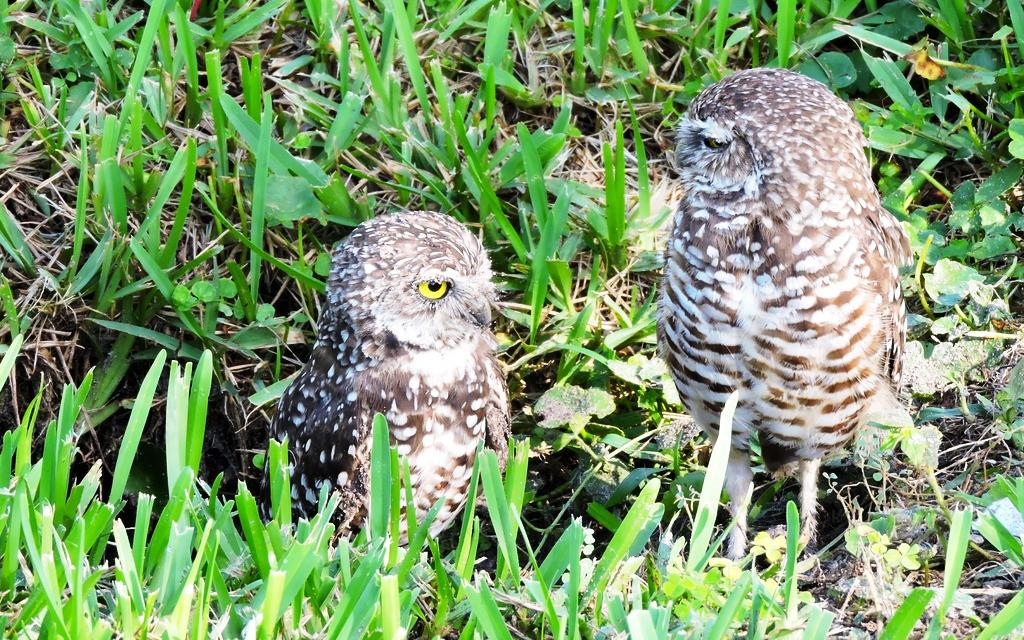Owl: (655, 68, 908, 571), (263, 208, 508, 564)
